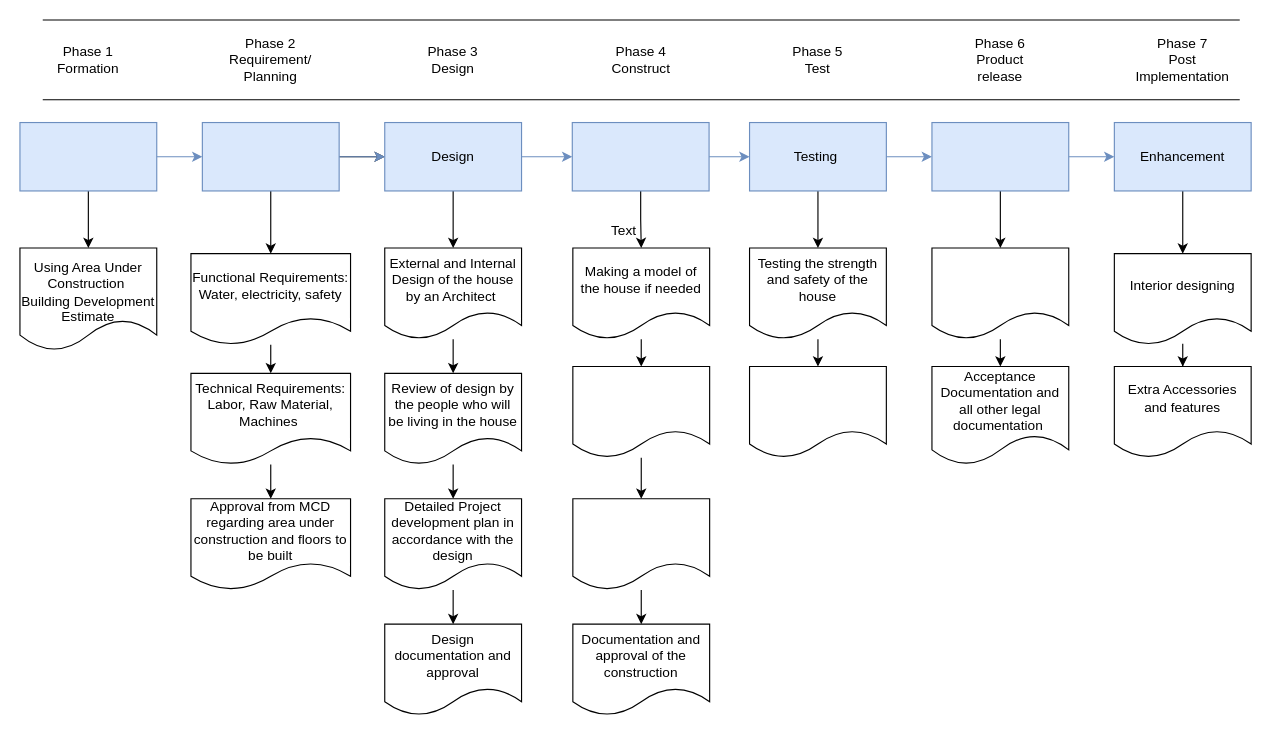
Some shapes in this 1271 by 735 pixel diagram are drawn without their labels. Here are the shapes that lost their labels. From the top down, the box of each, then its label:
(19, 121, 157, 191): House Building Initiation
(201, 121, 339, 191): Requirement Planning
(571, 121, 709, 191): Construction
(931, 121, 1069, 191): House release
(931, 247, 1069, 339): Acceptance by the owner
(572, 365, 710, 458): Construction of the house
(748, 365, 886, 458): Documentation of the test report and approval
(572, 498, 710, 590): Review of the house for any changes
